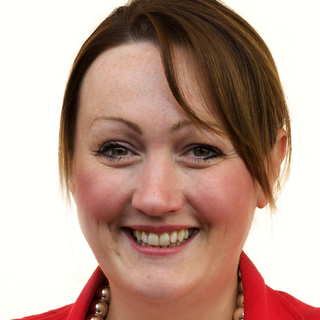eye: (169, 138, 235, 172), (85, 134, 149, 169)
